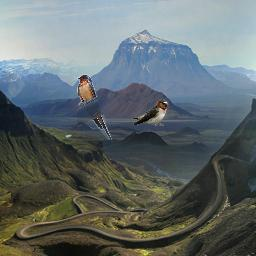Swallow: (77, 74, 112, 140), (132, 99, 169, 126)
